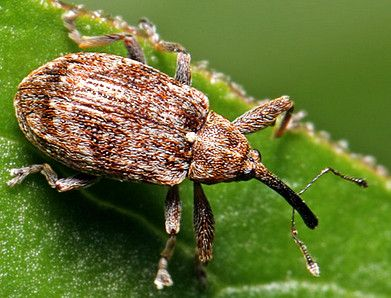dolgonosik: (9, 9, 375, 286)
